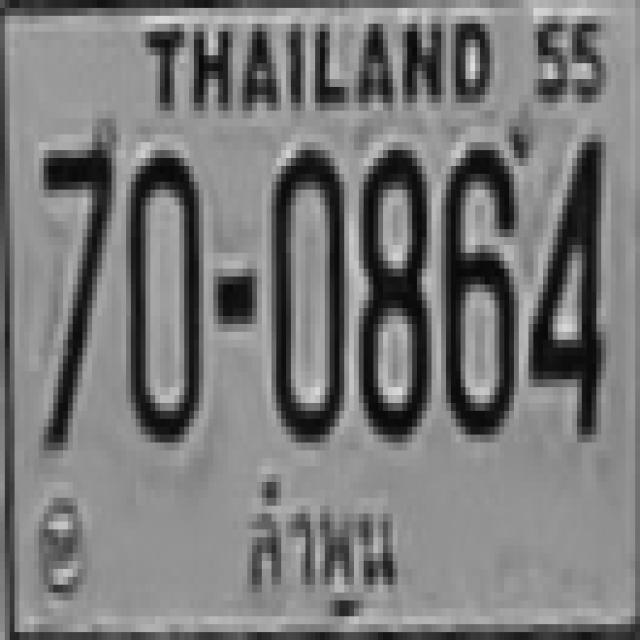0: (126, 142, 199, 435), (269, 142, 342, 435)
4: (529, 126, 601, 426)
6: (441, 142, 514, 427)
7: (39, 134, 111, 442), (39, 134, 111, 356)
8: (354, 142, 427, 435)
Lamphun: (237, 463, 408, 628)
